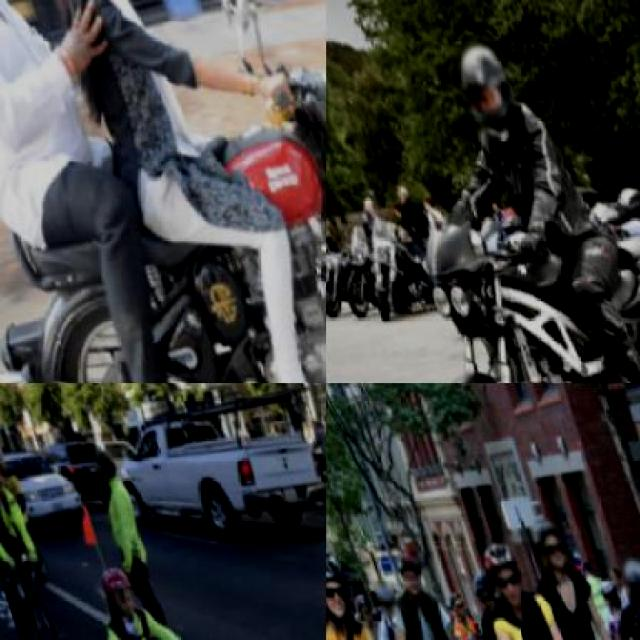With Helmet: (443, 26, 526, 143), (468, 522, 537, 615), (523, 501, 577, 570), (326, 537, 359, 631), (91, 552, 140, 614), (388, 530, 430, 602), (610, 532, 638, 608), (464, 555, 501, 608), (368, 571, 399, 615), (0, 452, 8, 502)
